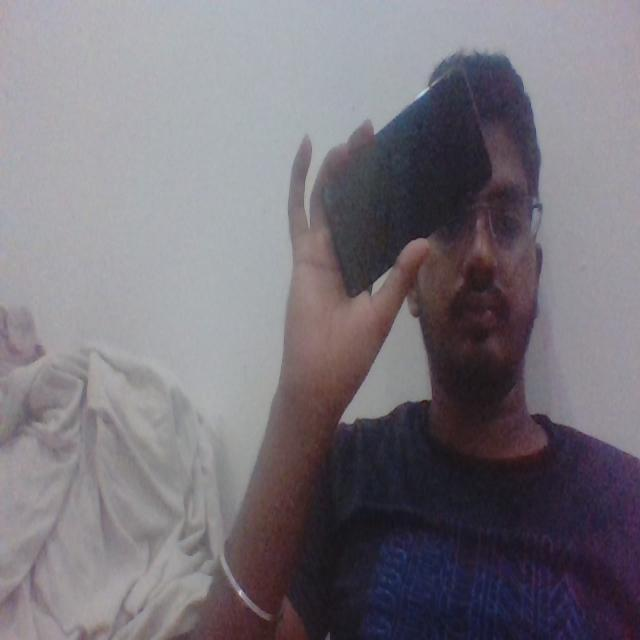Phone: (318, 63, 495, 303)
